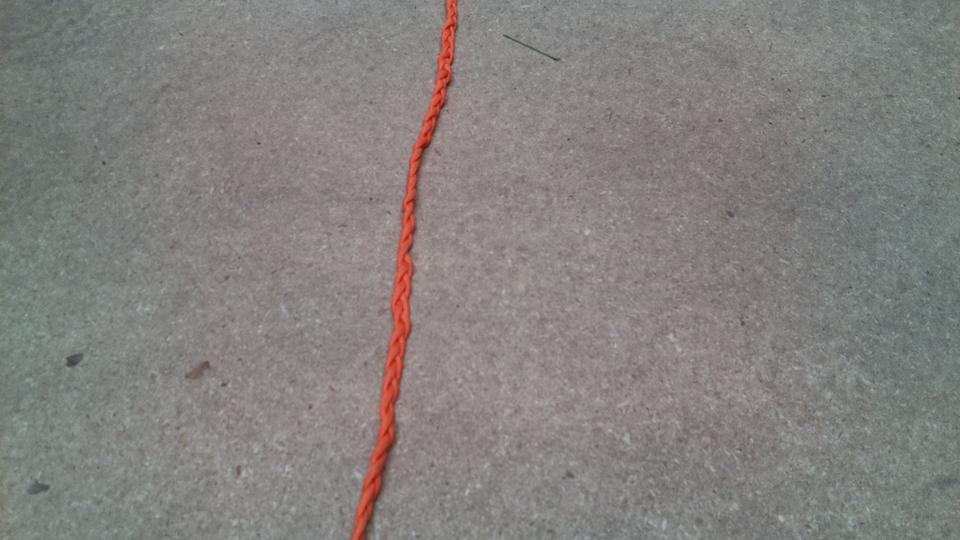rope: (343, 1, 462, 540)
